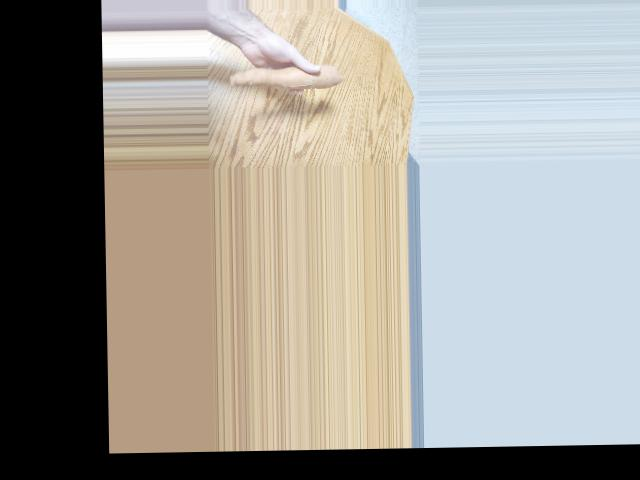sweet_potato: (229, 60, 337, 93)
